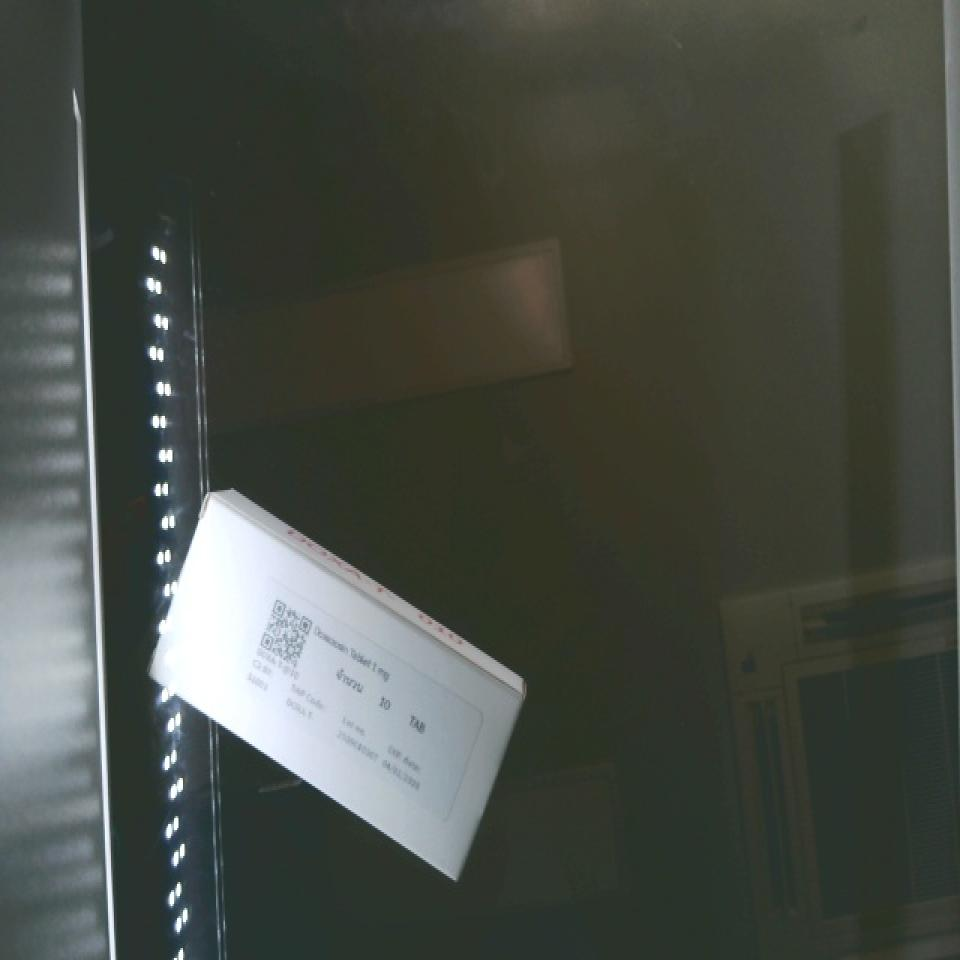medicine_box: (105, 495, 561, 882)
qr_code: (233, 580, 337, 691)
